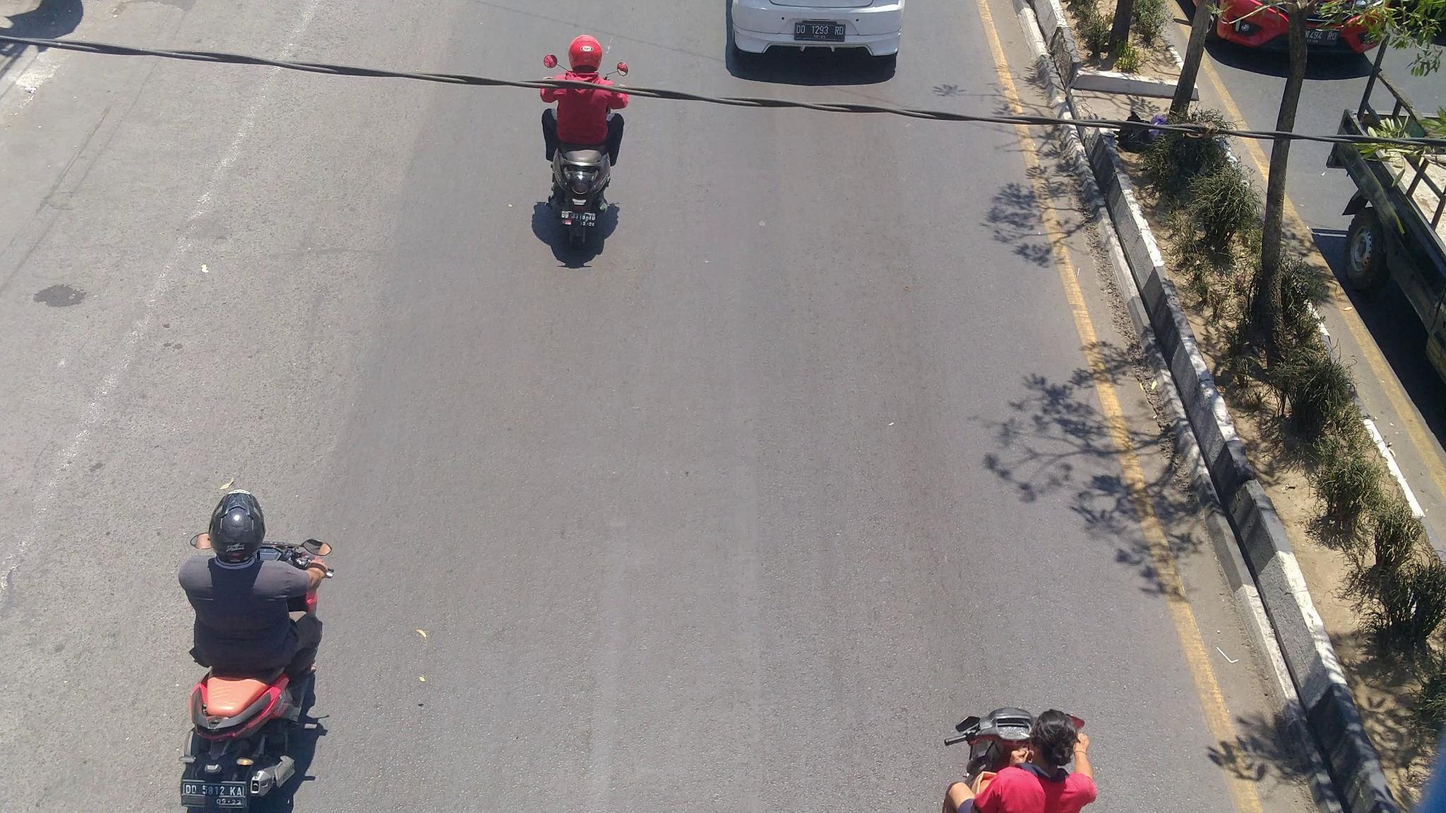Helmet: (206, 490, 275, 565), (563, 29, 607, 74), (197, 484, 202, 484)
bike: (182, 530, 334, 809), (540, 47, 631, 254)
no-helmet: (1017, 695, 1089, 776)
number-plate: (182, 776, 249, 809), (557, 207, 596, 231)
rider: (178, 491, 326, 707), (539, 32, 629, 173)
